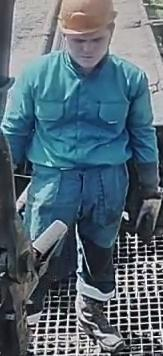gloves: (134, 190, 162, 244)
helmet: (57, 0, 116, 41)
vest: (0, 50, 160, 186)
